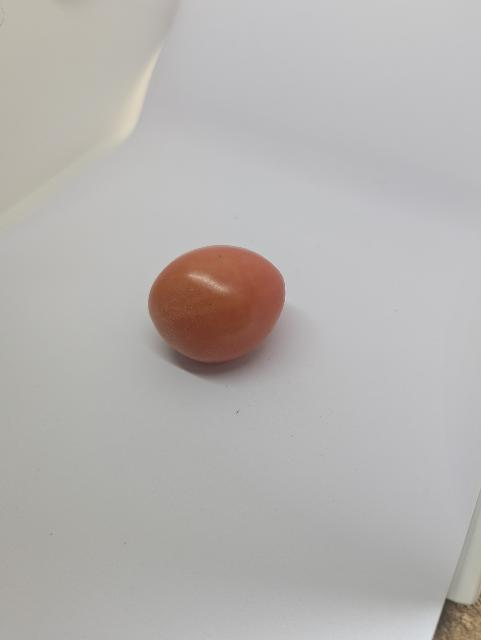red: (141, 237, 292, 380)
